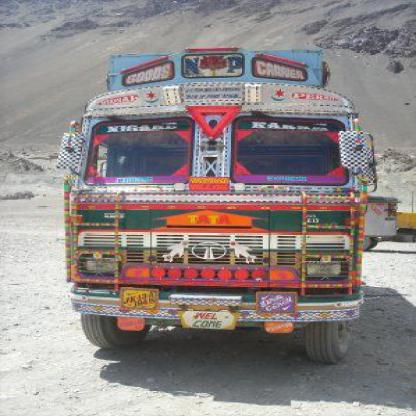truck: (64, 48, 373, 364)
